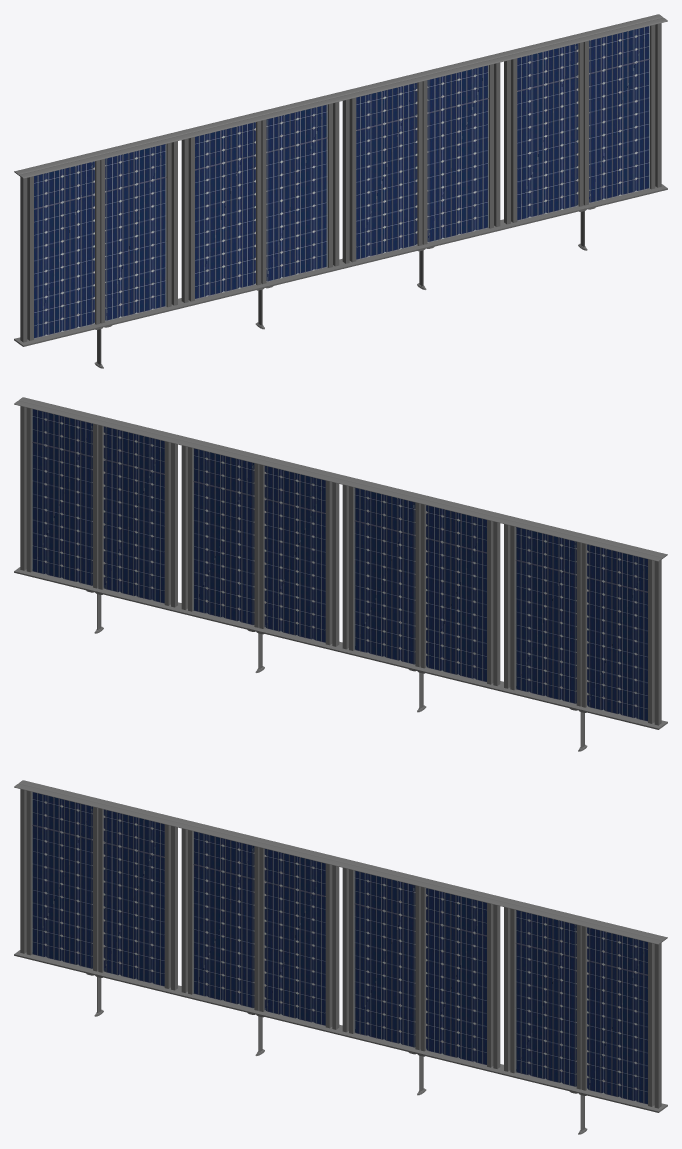
File: verticalPanel.glb
The picture shows the model from 3 angles, top to bottom: view 1: azimuth 30°, elevation 25°; view 2: azimuth 150°, elevation 25°; view 3: azimuth 330°, elevation 25°; orthographic projection.
Parts seen in each view (by area): view 1: panelfree.001, panelfree.002, panelfree, panelfree.003; view 2: panelfree.001, panelfree.002, panelfree, panelfree.003; view 3: panelfree.002, panelfree.001, panelfree.003, panelfree.
Part boxes in pixels (x1=…): panelfree.001: x1=175, y1=93, x2=345, y2=329; panelfree.002: x1=336, y1=53, x2=506, y2=289; panelfree: x1=14, y1=132, x2=184, y2=368; panelfree.003: x1=498, y1=14, x2=667, y2=250; panelfree.001: x1=336, y1=476, x2=506, y2=712; panelfree.002: x1=175, y1=436, x2=345, y2=672; panelfree: x1=497, y1=515, x2=667, y2=751; panelfree.003: x1=14, y1=397, x2=183, y2=633; panelfree.002: x1=336, y1=859, x2=506, y2=1095; panelfree.001: x1=175, y1=819, x2=345, y2=1055; panelfree.003: x1=497, y1=898, x2=667, y2=1134; panelfree: x1=14, y1=780, x2=183, y2=1016.
Size of the model in its own units: 8 by 2.5 by 0.2.
Materials: 2 (1 with a texture image).
